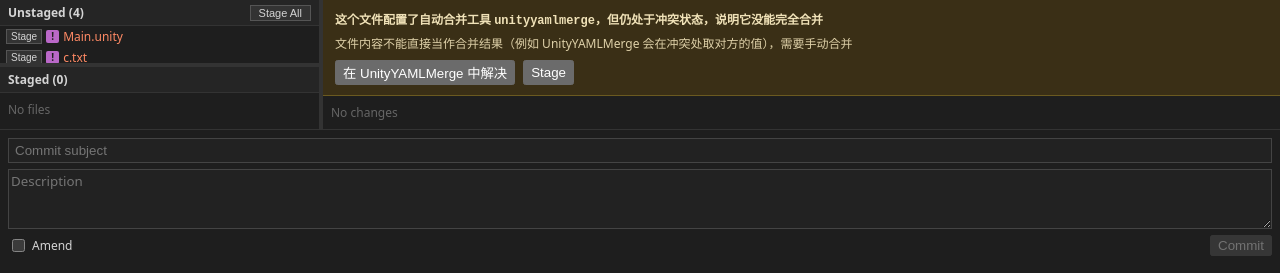
LocalChangesView 的冲突文件 › ① 有标记时只显示提示，不显示 diff
Click the text "c.txt": (75, 58) 63,49 -> 87,66
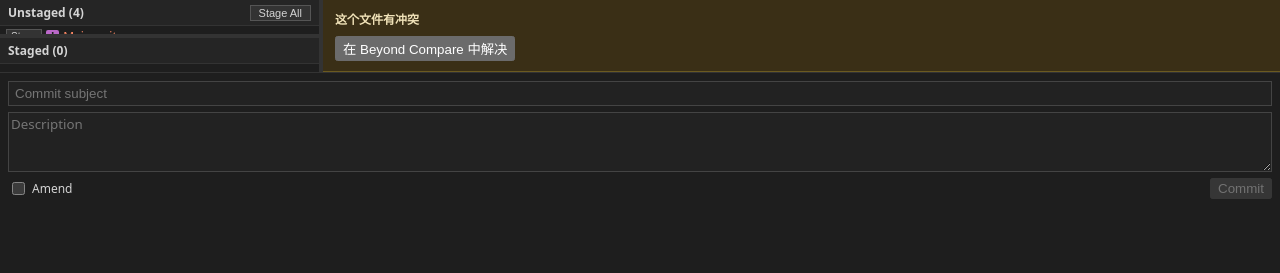
Result: the text "这个文件有冲突" is shown at 335,11 -> 419,28
